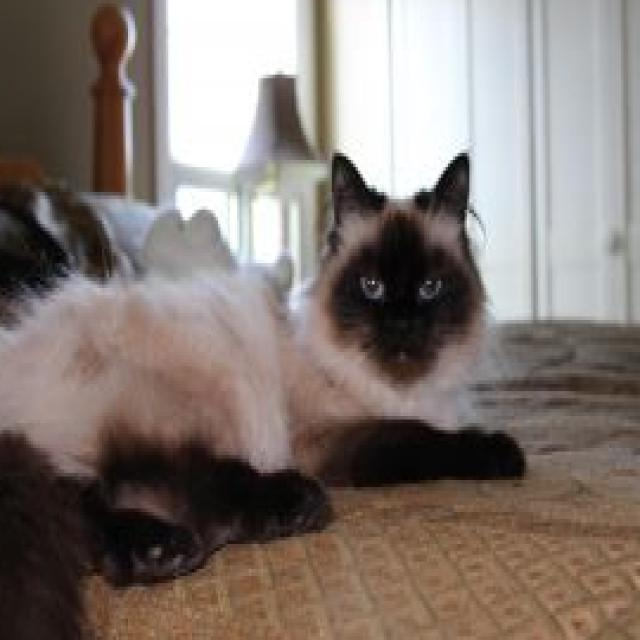Birman: (0, 142, 531, 640)
